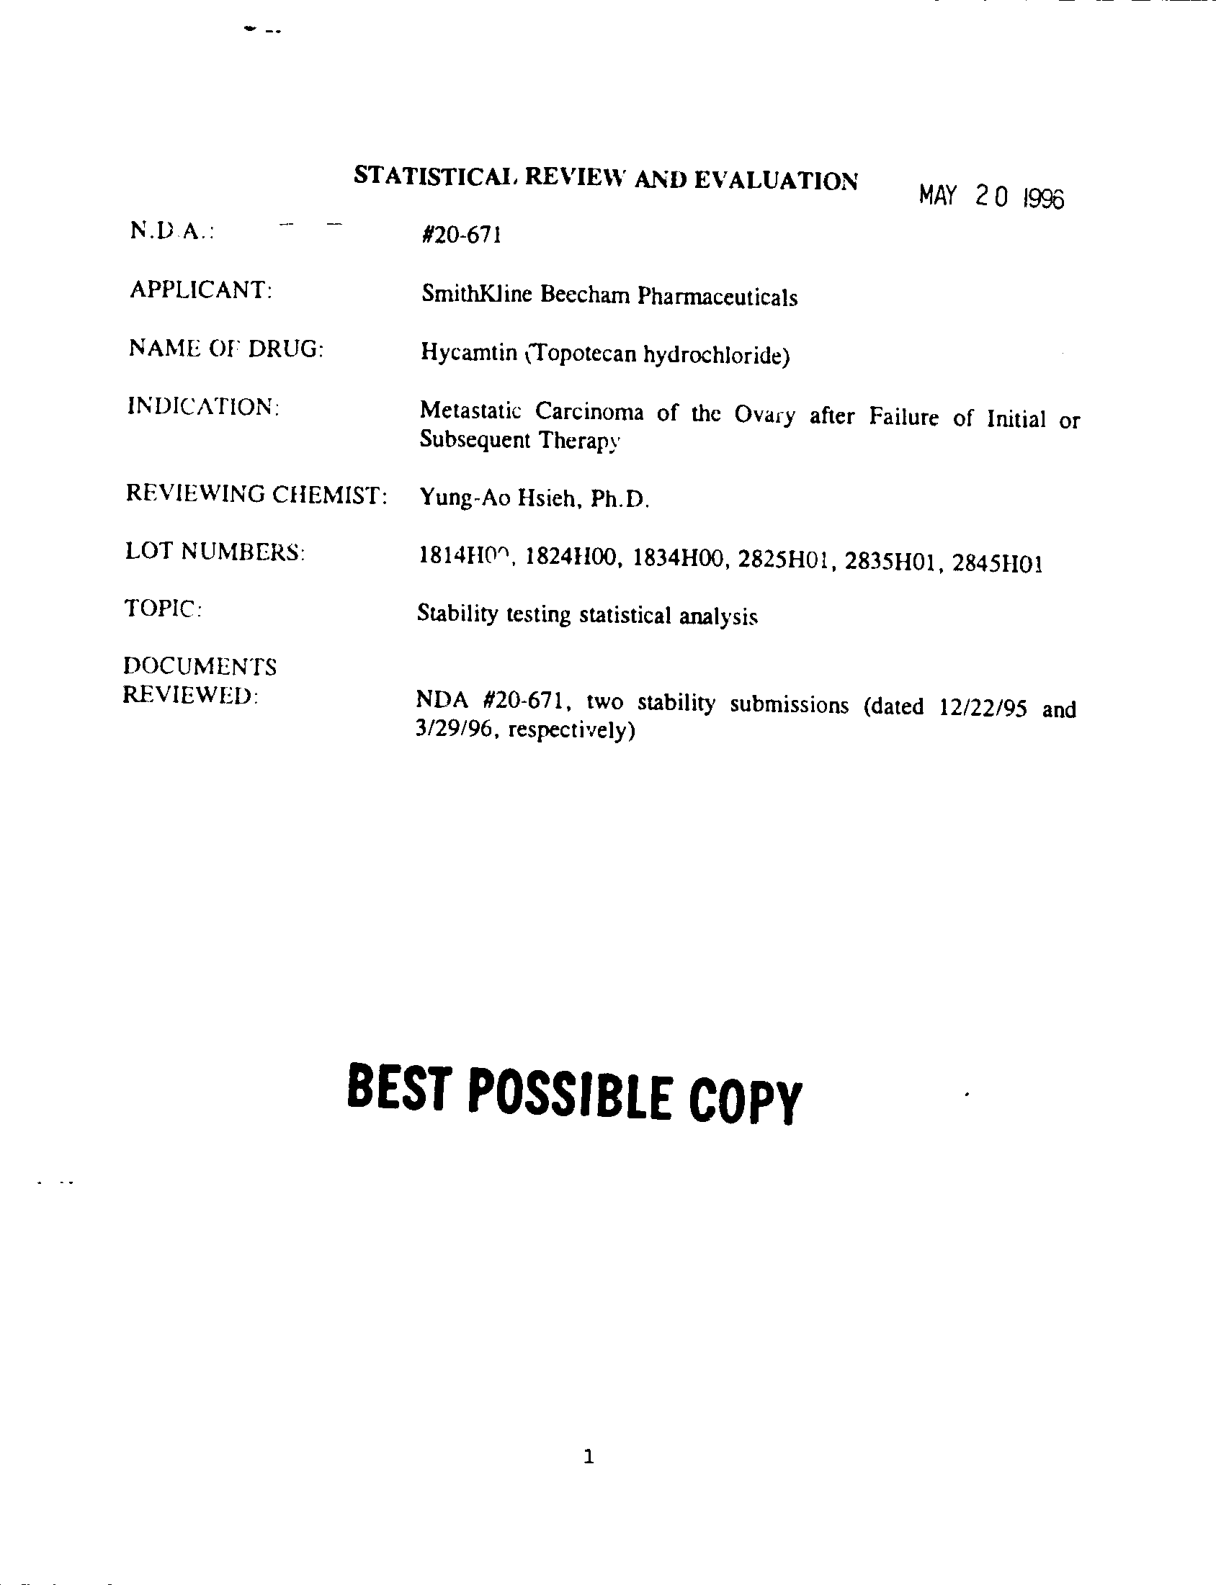nolines: (120, 216, 1083, 747)
